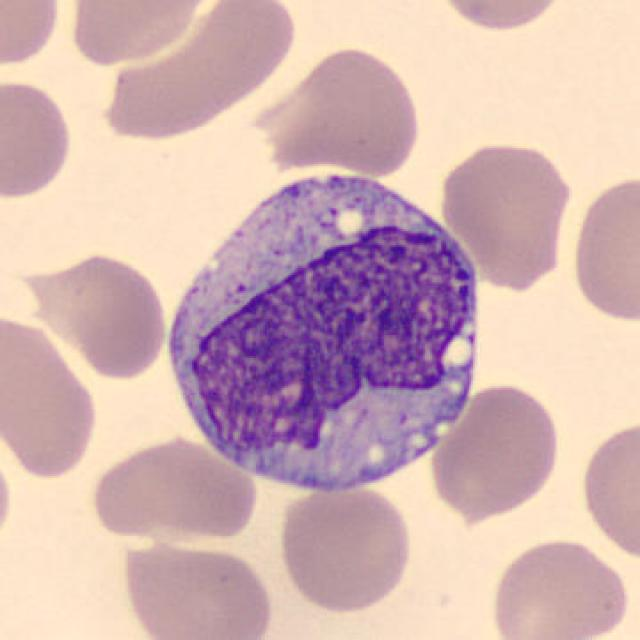Monocyte: (153, 155, 491, 503)
RBC: (110, 0, 297, 135), (247, 42, 427, 180), (12, 246, 172, 382), (437, 138, 576, 292), (87, 432, 260, 547), (274, 478, 416, 617), (427, 379, 565, 520), (0, 309, 103, 483), (115, 534, 278, 640), (485, 534, 633, 640), (567, 167, 640, 328), (64, 0, 219, 69), (0, 74, 76, 202), (576, 414, 640, 564), (0, 0, 66, 72), (430, 0, 572, 33), (0, 432, 16, 559)
